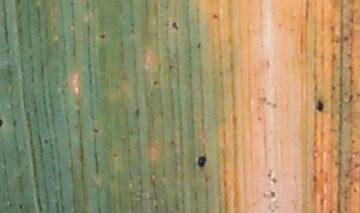tarspot: (195, 155, 207, 168), (316, 99, 324, 113), (172, 21, 179, 32), (99, 32, 107, 40), (212, 13, 219, 20), (92, 127, 100, 133), (195, 42, 202, 48), (152, 79, 158, 86), (1, 118, 5, 128), (168, 64, 174, 70), (18, 203, 23, 209), (43, 138, 48, 144), (113, 153, 117, 158)
